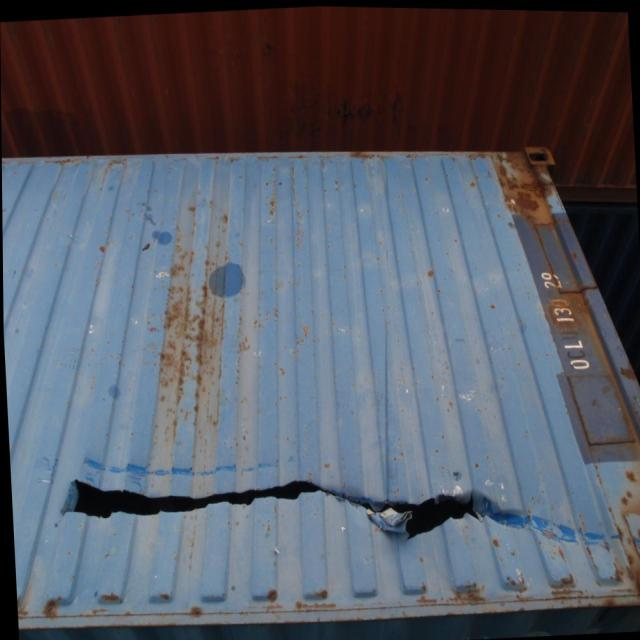hole: (53, 439, 576, 573)
